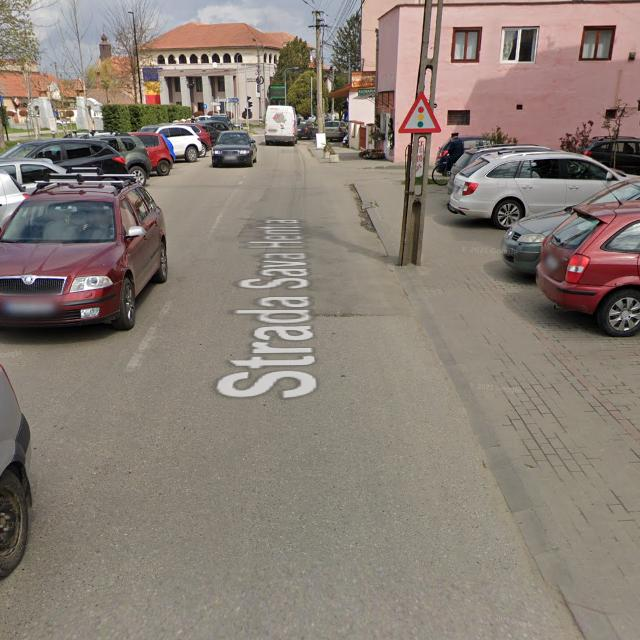warn_traffic_light: (398, 91, 441, 132)
